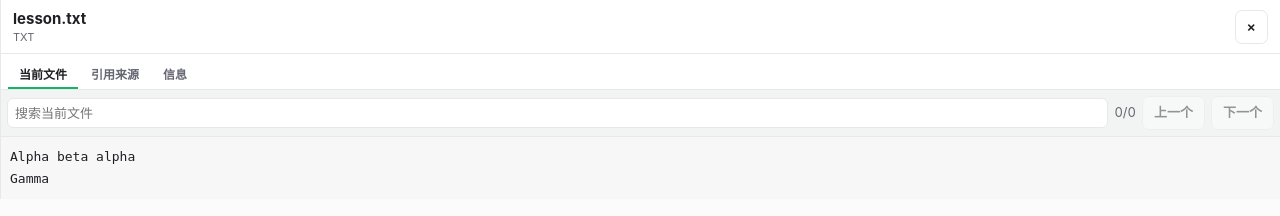
FilePreview › searches plain text, shows match count, and moves between highlights
This screenshot has width=1280, height=216.
Type "alpha" into the search field with placeholder "搜索当前文件".
click(558, 113); type("alpha")  # box x1=7 y1=98 x2=1108 y2=128
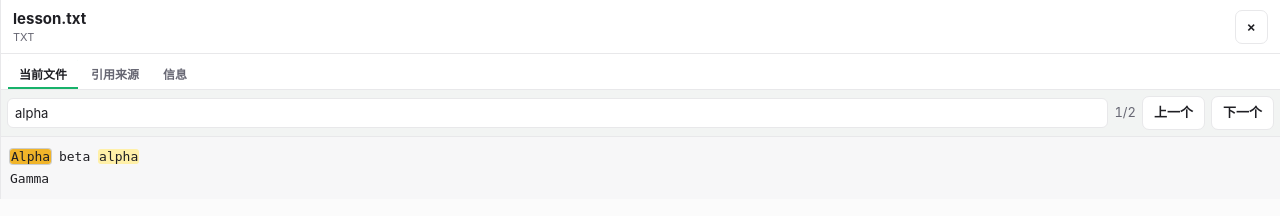
Expected: the text "Alpha" is shown, x1=10 y1=149 x2=51 y2=164
Now the text "1/2" is shown, box x1=1114 y1=103 x2=1136 y2=123
Submit the form, box x1=1 y1=90 x2=1279 y2=137
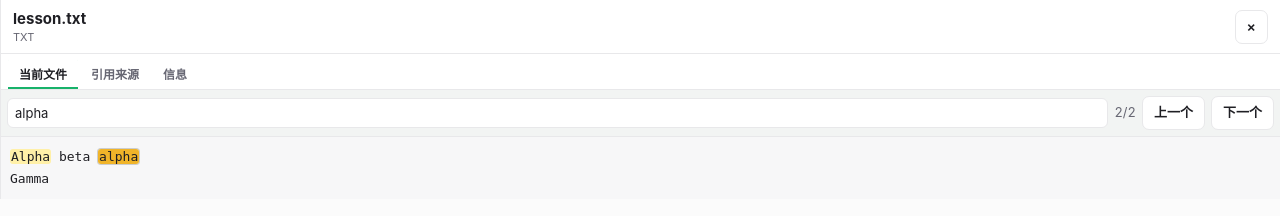
Expected: the text "alpha" is shown, x1=98 y1=149 x2=139 y2=164
Now the text "2/2" is shown, box x1=1114 y1=103 x2=1136 y2=123
Click the button "上一个".
click(1174, 113)  # box x1=1142 y1=96 x2=1205 y2=130
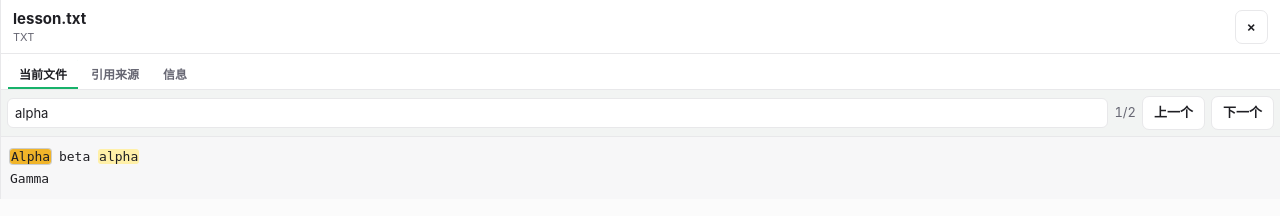
Expected: the text "Alpha" is shown, x1=10 y1=149 x2=51 y2=164
Now the text "1/2" is shown, box x1=1114 y1=103 x2=1136 y2=123
